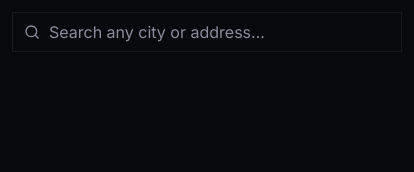
Scenario: LocationSearch › clears the highlight when new results arrive
The width and height of the screenshot is (414, 172).
Note: Start a search to populate results
In the dropdown: (207, 32) [12, 12, 402, 52], type "cope"
Wait 400 ms
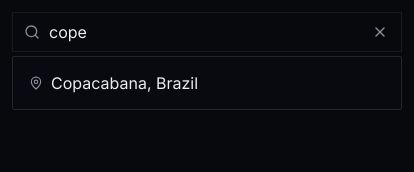
Note: Now highlight an option
Press ArrowDown in the dropdown, box [12, 12, 402, 52]
Note: A fresh search replaces the result set -- the highlight must not survive it.
Replace the text in the dropdown with "jak": (207, 32) [12, 12, 402, 52]
Wait 400 ms
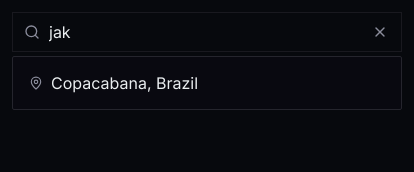
Expected: the dropdown does not have attribute aria-activedescendant, [12, 12, 402, 52]
